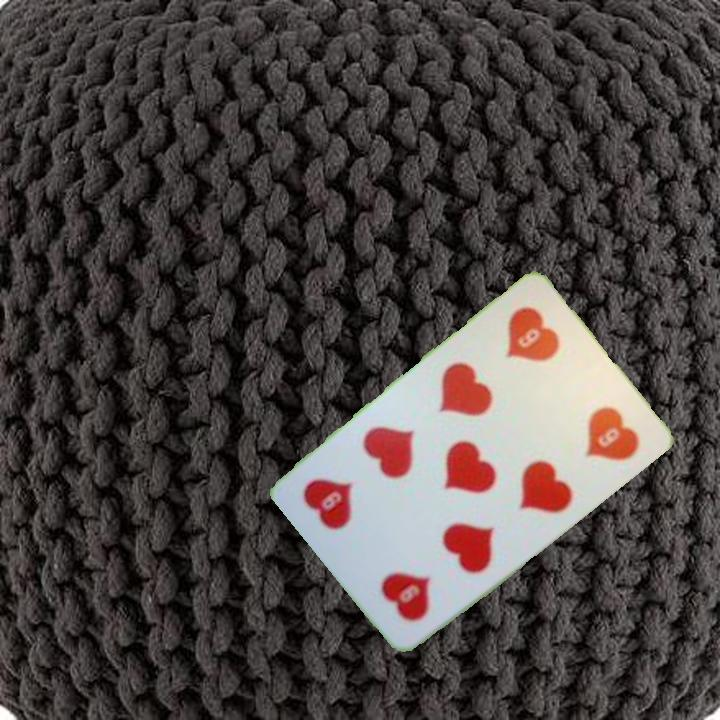h_9.png: (343, 509, 471, 639), (469, 288, 596, 418)
